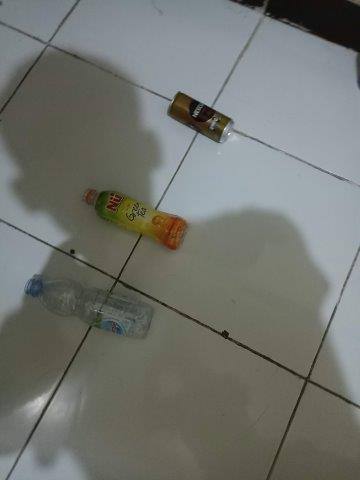botolplastik: (24, 278, 153, 341), (81, 188, 188, 250)
kaleng: (167, 92, 234, 142)
